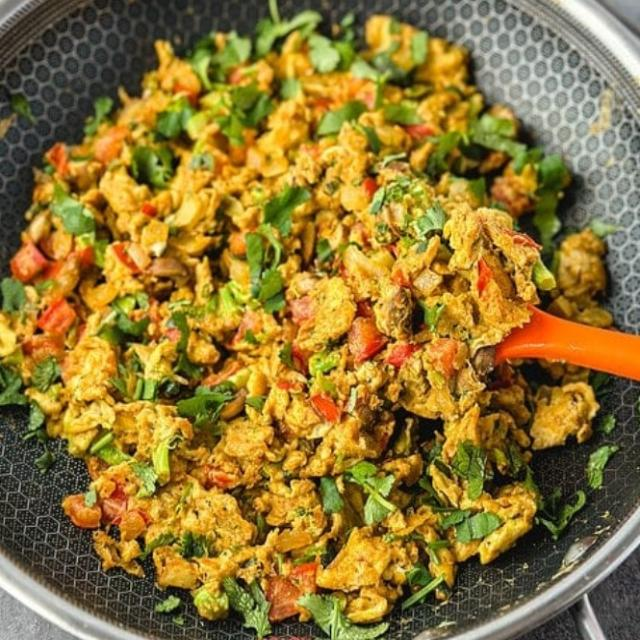EGG: (3, 6, 614, 626)
